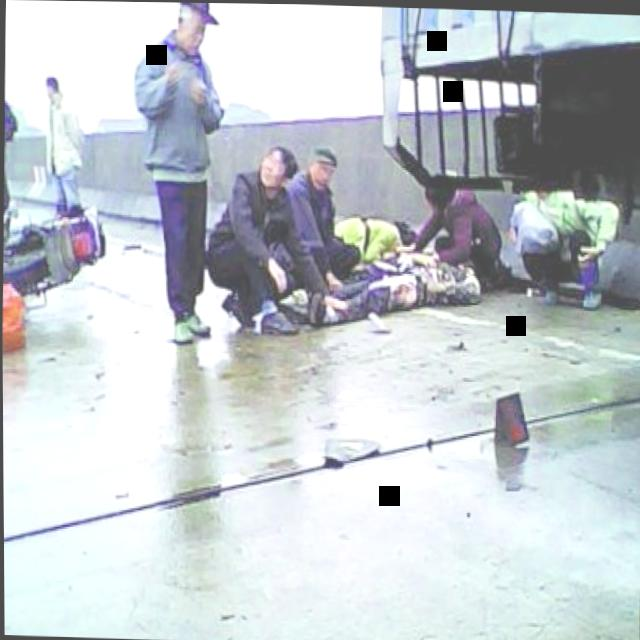Fall-Detected: (279, 237, 491, 343)
